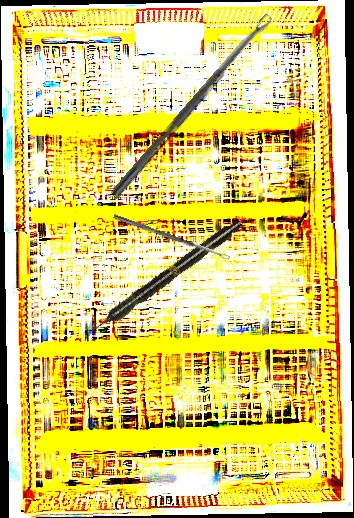Handpiece: (84, 216, 246, 339)
Surgical Spoon: (109, 13, 275, 200), (112, 214, 231, 261)
